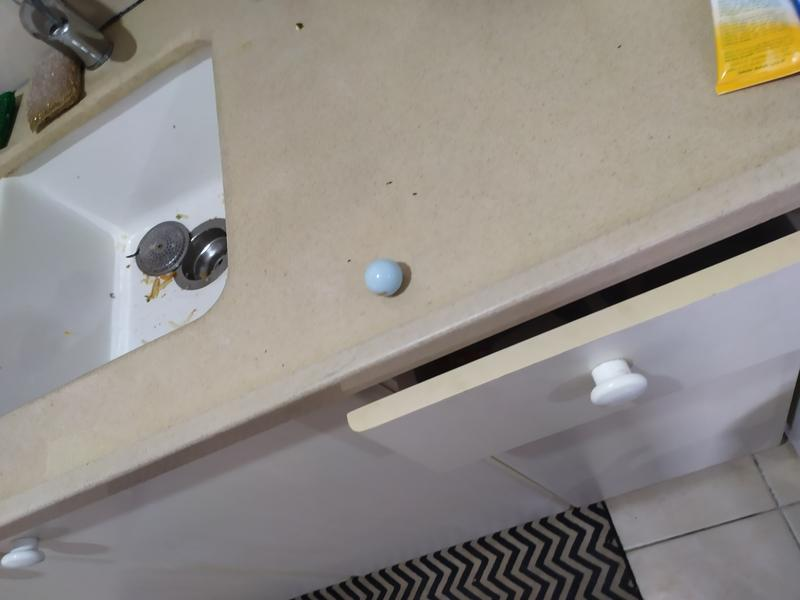Warning: (362, 256, 405, 299)
